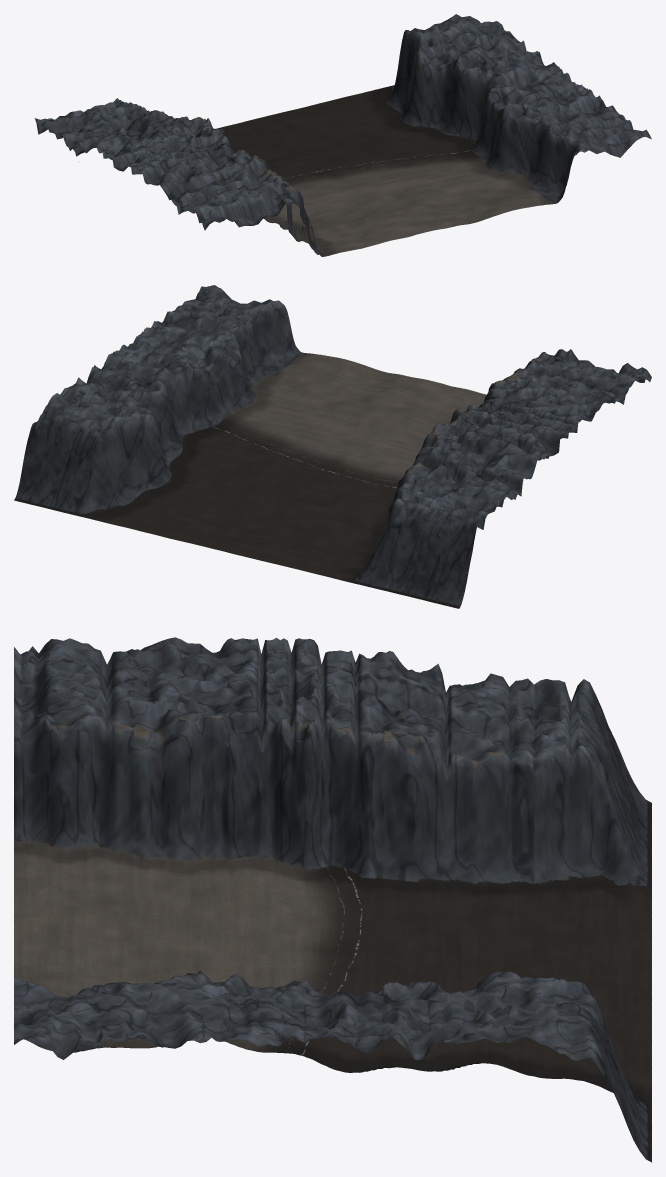
File: beach-v2.glb
The picture shows the model from 3 angles, top to bottom: view 1: azimuth 30°, elevation 25°; view 2: azimuth 150°, elevation 25°; view 3: azimuth 270°, elevation 25°; orthographic projection. The views are drawn at different scales.
Bounding box in the file's own units: 120 × 25.83 × 90.
Materials: 1 (1 with a texture image).
